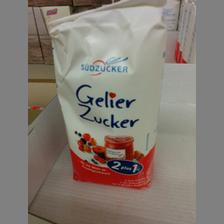Zucker: (44, 1, 166, 189)
